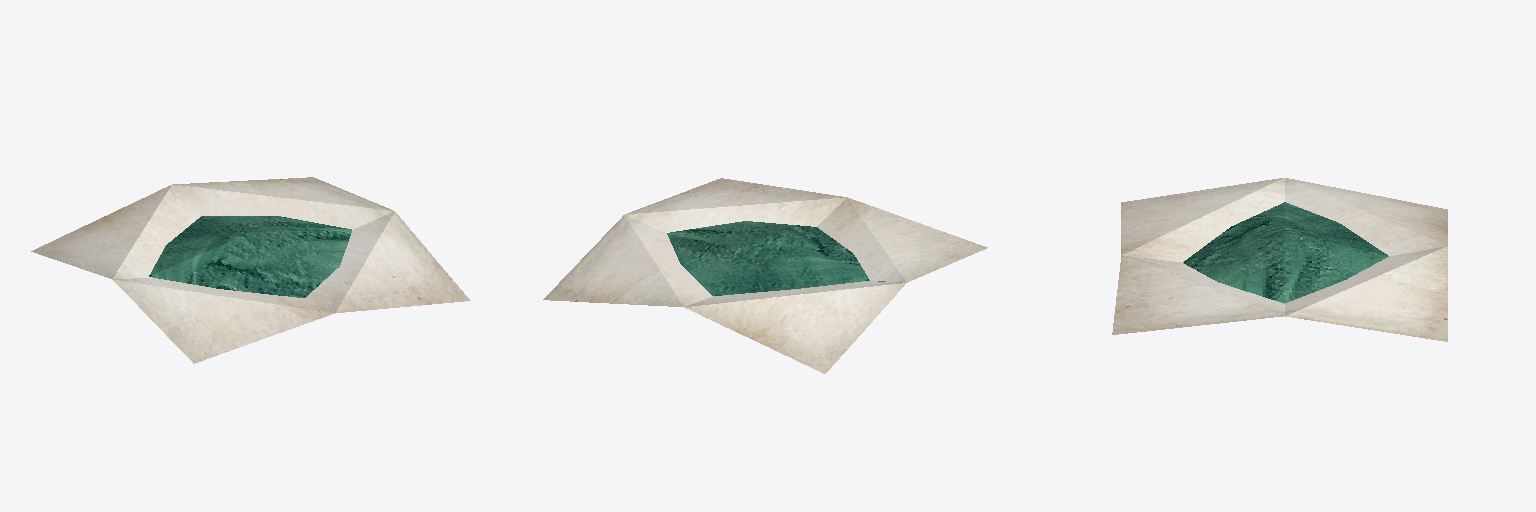
The picture shows the model from 3 angles: view 1: azimuth 30°, elevation 25°; view 2: azimuth 150°, elevation 25°; view 3: azimuth 270°, elevation 25°; orthographic projection.
Visible parts, largest first — view 1: Plane; view 2: Plane; view 3: Plane.
Part boxes in pixels (left/top/right/bottom): Plane: left=31, top=177, right=469, bottom=363; Plane: left=543, top=178, right=987, bottom=373; Plane: left=1112, top=178, right=1447, bottom=341.
Bounding box in the file's own units: 2 × 0.3038 × 2.06.
1 materials, 1 textured.